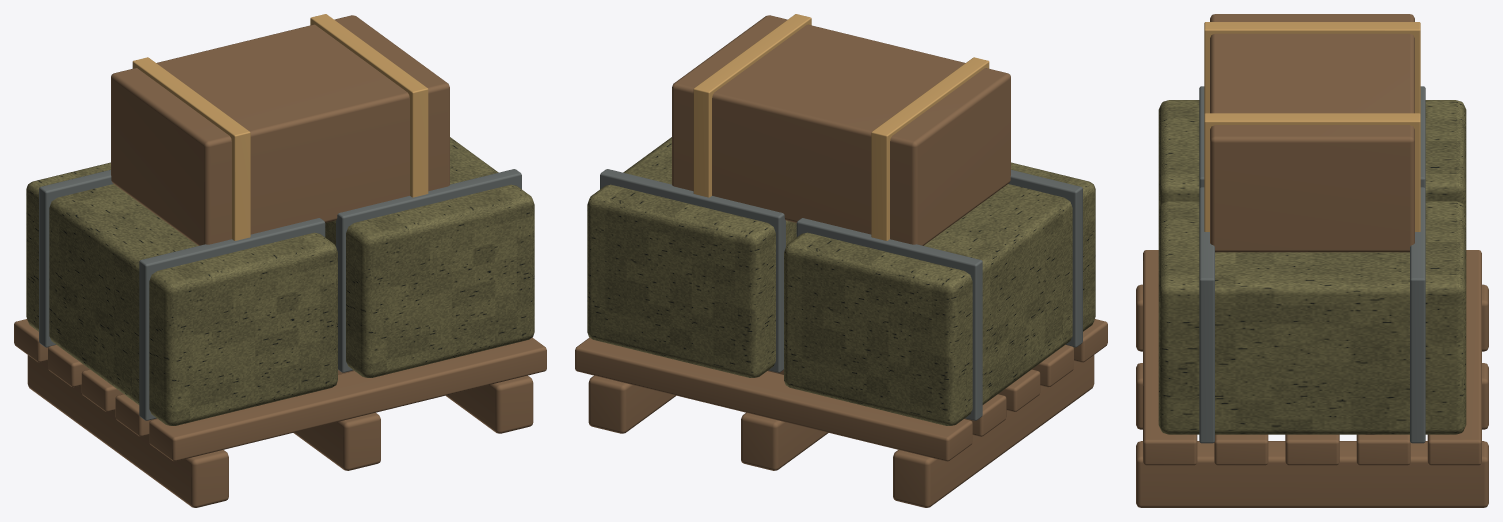
File: STK-B03.fbx
3 renders of one model, left to right at view 1: azimuth 30°, elevation 25°; view 2: azimuth 150°, elevation 25°; view 3: azimuth 270°, elevation 25°, orthographic. The views are drawn at different scales.
Parts seen in each view (by area): view 1: STK-B03_Wood, STK-B03_Armor, STK-B03_Steel, STK-B03_Brass; view 2: STK-B03_Wood, STK-B03_Armor, STK-B03_Steel, STK-B03_Brass; view 3: STK-B03_Wood, STK-B03_Armor, STK-B03_Steel, STK-B03_Brass.
Boxes of the visible parts, x1,y1,x2,y2 form: STK-B03_Wood: (14, 15, 546, 507); STK-B03_Armor: (26, 137, 534, 425); STK-B03_Steel: (39, 169, 521, 420); STK-B03_Brass: (132, 14, 428, 240); STK-B03_Wood: (575, 15, 1107, 507); STK-B03_Armor: (587, 137, 1095, 425); STK-B03_Steel: (600, 169, 1082, 420); STK-B03_Brass: (693, 14, 989, 240); STK-B03_Wood: (1136, 14, 1488, 507); STK-B03_Armor: (1158, 100, 1466, 434); STK-B03_Steel: (1199, 86, 1425, 443); STK-B03_Brass: (1204, 22, 1420, 231).
Size of the model in its own units: 161 by 136 by 124.
